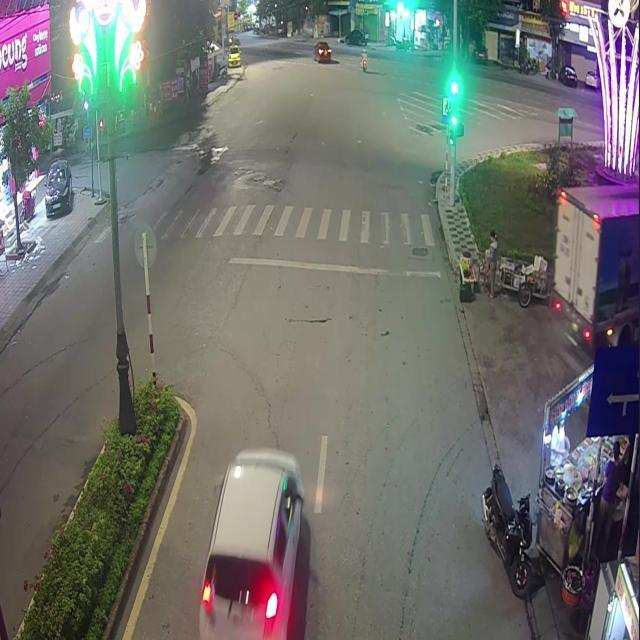car: (199, 447, 304, 639), (553, 176, 639, 352), (313, 40, 331, 62)
green_light: (450, 92, 457, 125)
motobike: (481, 463, 536, 597)
stop_line: (226, 256, 440, 277)
